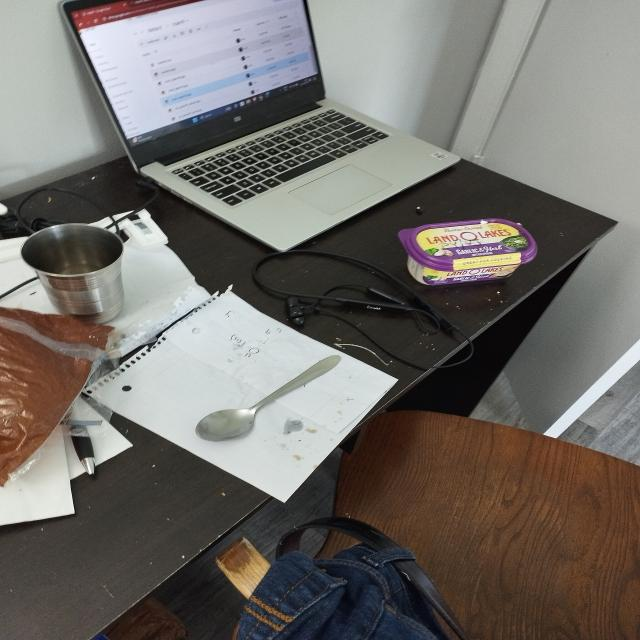Spoon: (189, 351, 351, 446)
